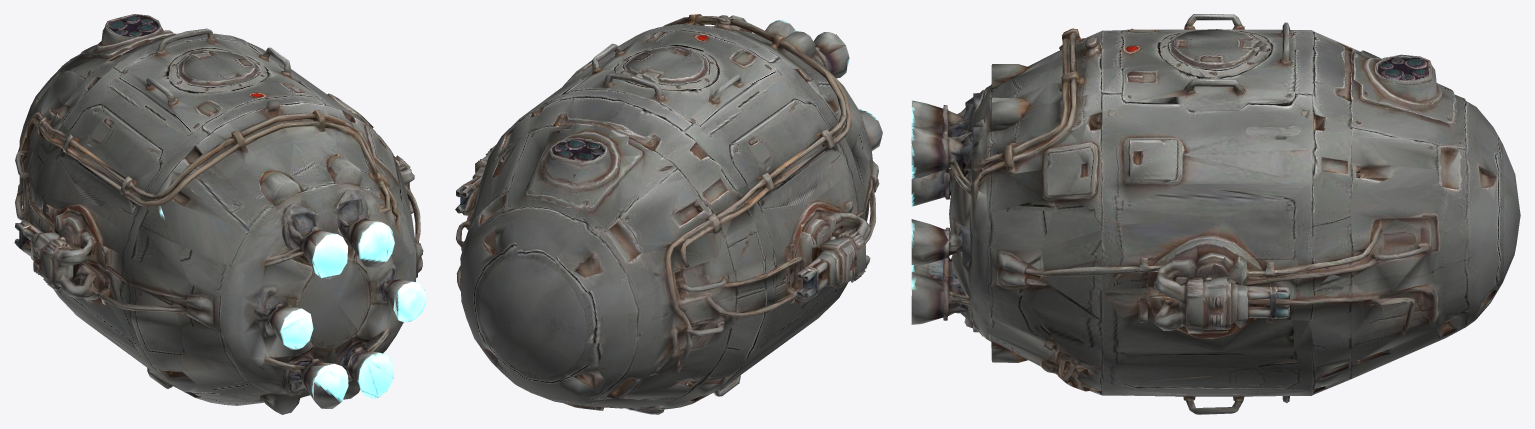
File: phoenix.glb
The picture shows the model from 3 angles, left to right: view 1: azimuth 30°, elevation 25°; view 2: azimuth 150°, elevation 25°; view 3: azimuth 270°, elevation 25°; orthographic projection. The views are drawn at different scales.
Parts seen in each view (by area): view 1: phoenix; view 2: phoenix; view 3: phoenix.
Boxes of the visible parts, x1=… form: phoenix: x1=14, y1=14, x2=426, y2=414; phoenix: x1=455, y1=14, x2=882, y2=414; phoenix: x1=911, y1=14, x2=1520, y2=414.
Size of the model in its own units: 1.47 by 1.25 by 1.9.
1 material, 1 textured.
